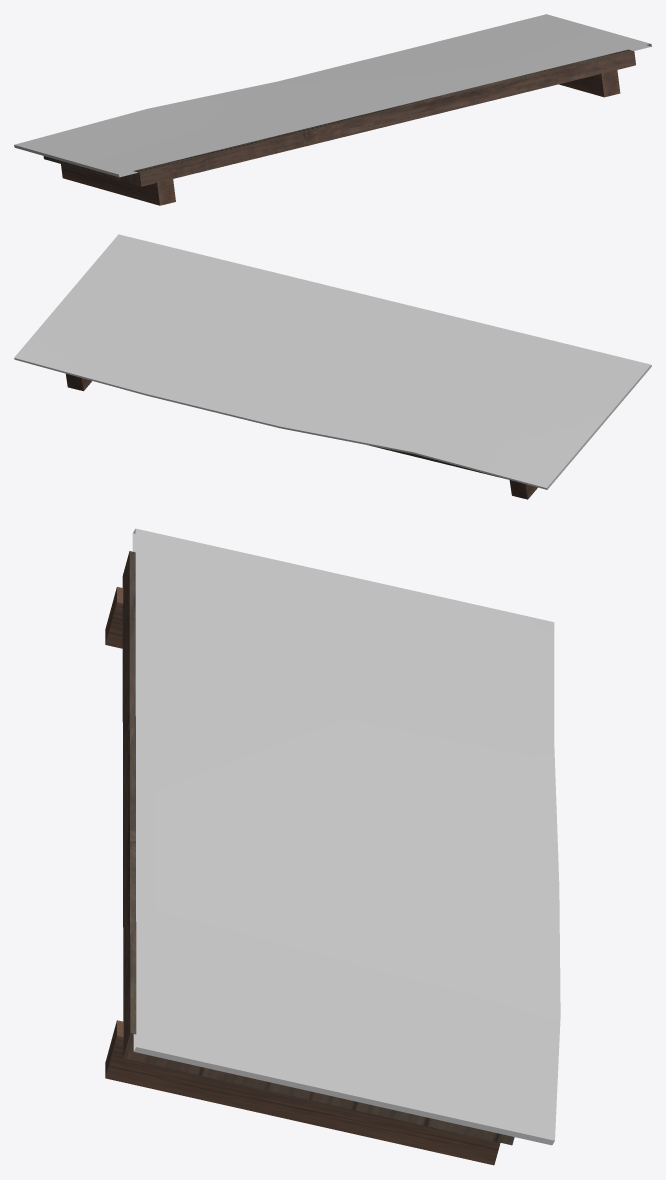
Rendered from jovhouse_sunshade02bd.fbx.
3 views of the same model, one above another, from view 1: azimuth 30°, elevation 25°; view 2: azimuth 150°, elevation 25°; view 3: azimuth 270°, elevation 25° (orthographic). The views are drawn at different scales.
Visible parts, largest first — view 1: jovhouse_sunshade02bd; view 2: jovhouse_sunshade02bd; view 3: jovhouse_sunshade02bd.
Boxes of the visible parts, x1,y1,x2,y2 form: jovhouse_sunshade02bd: (14, 14, 651, 205); jovhouse_sunshade02bd: (14, 234, 651, 499); jovhouse_sunshade02bd: (105, 528, 560, 1165).
Size of the model in its own units: 274 by 38.35 by 101.
